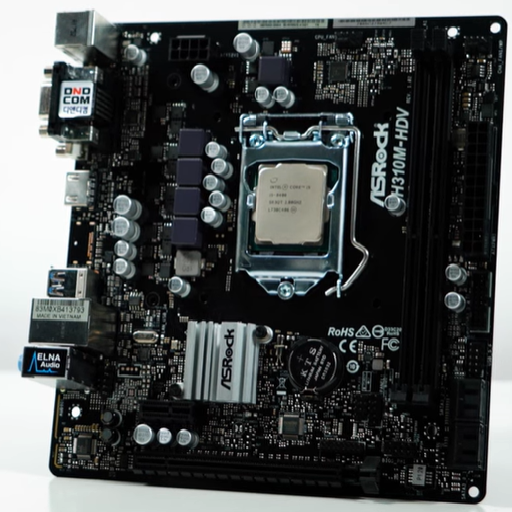CPU: (231, 108, 355, 300)
GPU: (135, 447, 382, 498)
MOTHERBOARD: (17, 10, 509, 506)
RAM: (402, 30, 456, 402)
